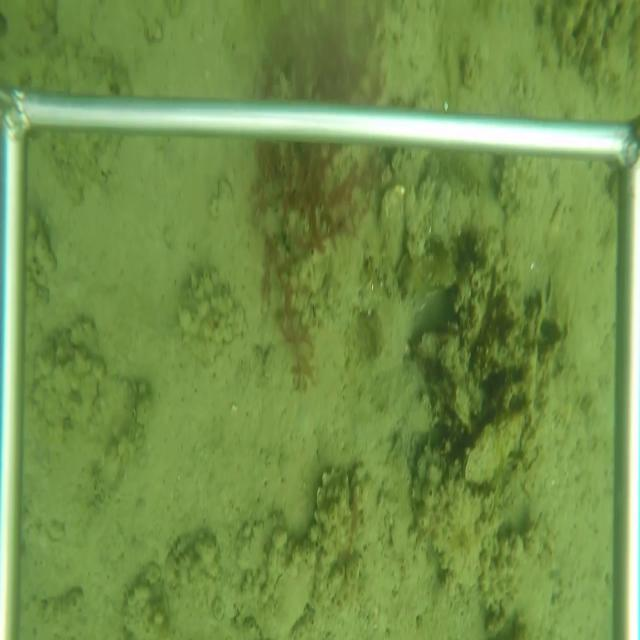Oyster-Closed: (460, 400, 528, 489)
Oyster-Indeterminate: (244, 537, 319, 637)
Oyster-Open: (527, 285, 548, 347)
